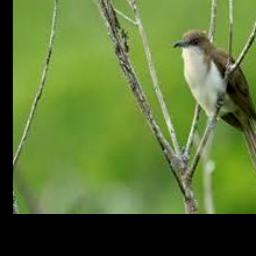Cuckoo: (173, 30, 256, 196)
